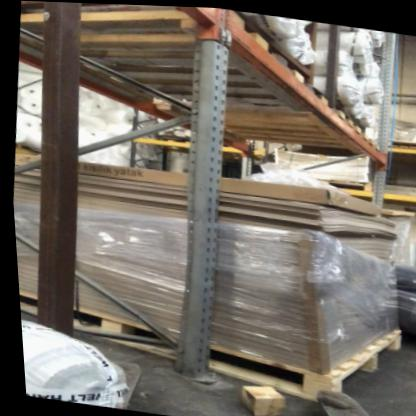vertical_damage: (164, 355, 226, 393)
